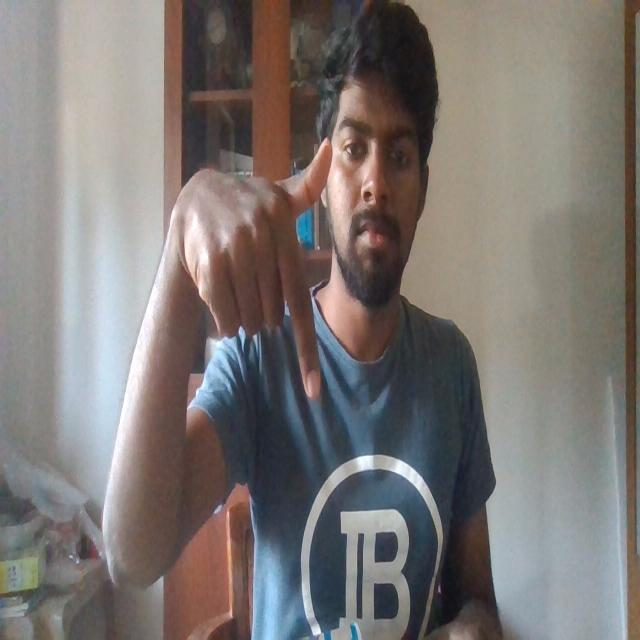Yes: (156, 123, 337, 401)
